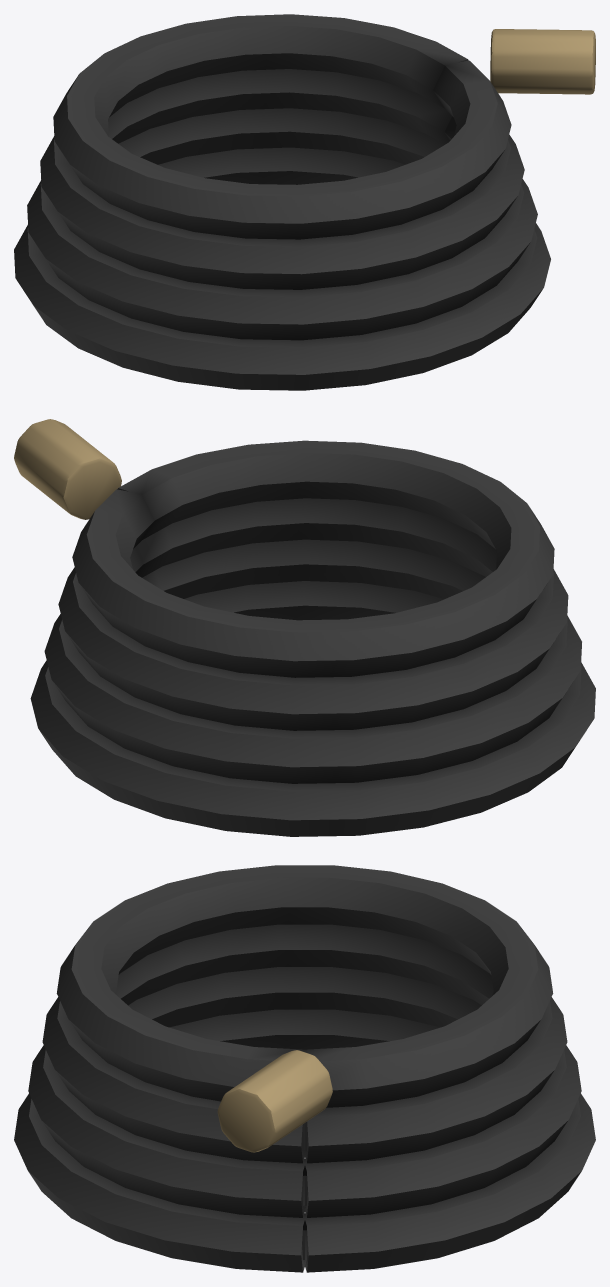
Rendered from hose.glb.
The picture shows the model from 3 angles, top to bottom: view 1: azimuth 30°, elevation 25°; view 2: azimuth 150°, elevation 25°; view 3: azimuth 270°, elevation 25°; orthographic projection. The views are drawn at different scales.
Parts seen in each view (by area): view 1: boat_hose.001, boat_brass; view 2: boat_hose.001, boat_brass; view 3: boat_hose.001, boat_brass.
Boxes of the visible parts, bbox=[...] form: boat_hose.001: bbox=[14, 14, 550, 390]; boat_brass: bbox=[490, 29, 595, 94]; boat_hose.001: bbox=[30, 440, 595, 836]; boat_brass: bbox=[14, 419, 121, 519]; boat_hose.001: bbox=[14, 865, 595, 1272]; boat_brass: bbox=[217, 1050, 332, 1152].
Size of the model in its own units: 0.557 by 0.2005 by 0.489.
